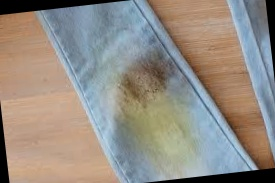earth: (119, 65, 190, 169)
